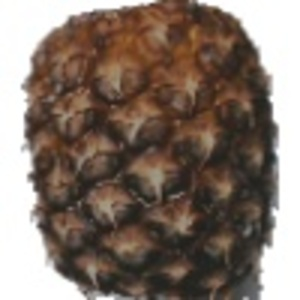abacaxi: (19, 3, 278, 292)
